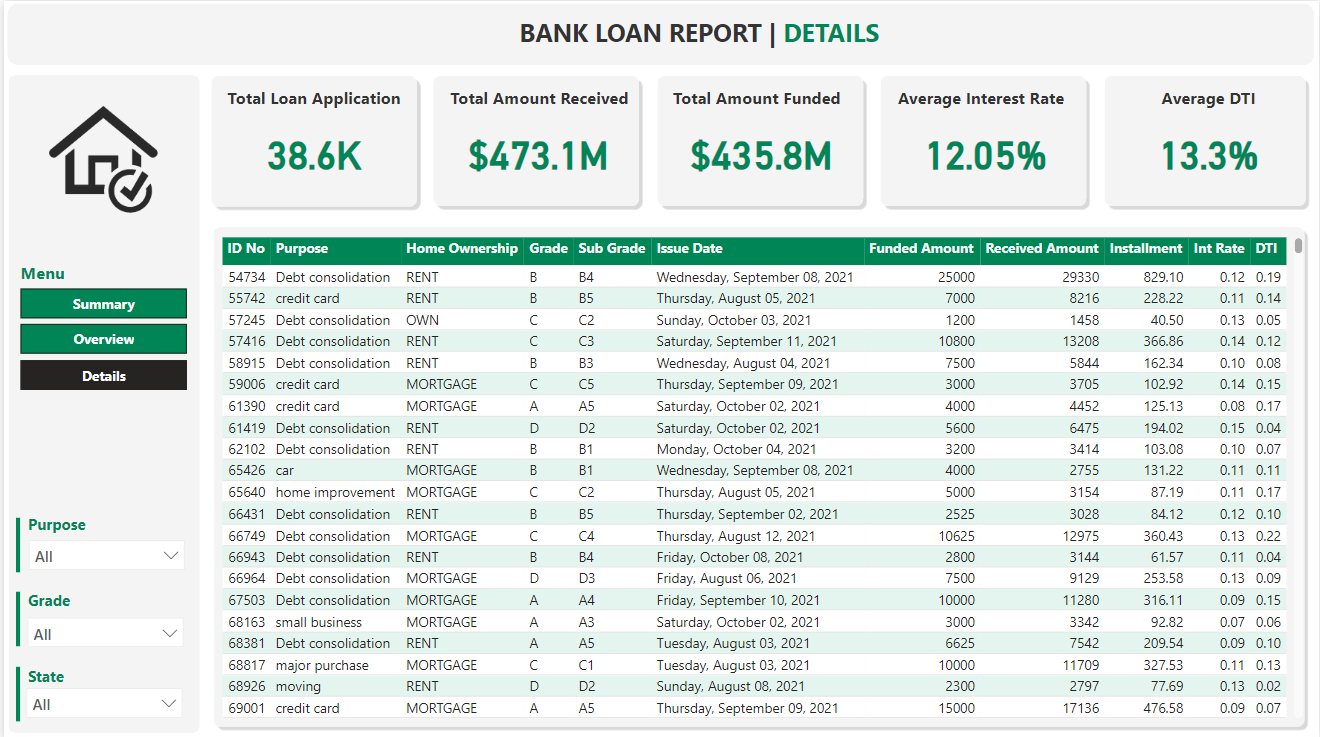

Layout of this report page (visuals, bound fields, positions):
{"tool":"powerbi","page":{"name":"Details","canvas":[1280,720],"ordinal":2},"visuals":[{"type":"shape","box":[3.1,2.1,1272.9,60.4],"z":0},{"type":"shape","box":[4,71.9,186.3,640.9],"z":1000},{"type":"textbox","box":[365.6,8.3,622.9,53.1],"z":2000},{"type":"shape","box":[196.9,67.7,210.4,137.5],"z":3000},{"type":"shape","box":[413.4,68,210.5,137],"z":4000},{"type":"shape","box":[631.1,68,210.5,137],"z":5000},{"type":"shape","box":[848.7,68,210.5,137],"z":6000},{"type":"shape","box":[1066.3,68,206,137],"z":7000},{"type":"card","fields":{"Values":["BankLoan.total loan application"]},"box":[221.7,109.8,160,73.9],"z":8000},{"type":"textbox","box":[198.9,77.9,206.3,40],"z":9000},{"type":"textbox","box":[417.9,77.9,206.3,40],"z":10000},{"type":"textbox","box":[1069.5,77.9,206.3,40],"z":11000},{"type":"textbox","box":[630.5,77.9,206.3,40],"z":12000},{"type":"textbox","box":[848.4,77.9,206.3,40],"z":13000},{"type":"card","fields":{"Values":["BankLoan.Total Amount Recevied"]},"box":[439.4,109.8,160,73.9],"z":14000},{"type":"card","fields":{"Values":["BankLoan.Total Amount Funded"]},"box":[657.1,109.8,160,73.9],"z":15000},{"type":"card","fields":{"Values":["BankLoan.Average int rate"]},"box":[874.8,109.8,160,73.9],"z":16000},{"type":"card","fields":{"Values":["BankLoan.Average DTI"]},"box":[1092.5,109.8,160,73.9],"z":17000},{"type":"slicer","fields":{"Values":["BankLoan.address_state"]},"box":[11.5,659.4,171.9,53.1],"z":18000},{"type":"slicer","fields":{"Values":["BankLoan.grade"]},"box":[12.5,590.6,171.9,50],"z":19000},{"type":"slicer","fields":{"Values":["BankLoan.purpose"]},"box":[13.5,514.6,171.9,52.1],"z":20000},{"type":"textbox","box":[18.8,494.8,111.5,40.6],"z":21000},{"type":"textbox","box":[18.8,568.8,103.1,40.6],"z":22000},{"type":"textbox","box":[18.8,641.7,131.2,40.6],"z":23000},{"type":"shape","box":[4.5,503.1,18.8,53.1],"z":24000},{"type":"shape","box":[4.5,575.5,18.8,53.1],"z":25000},{"type":"shape","box":[4.5,647.9,18.8,53.1],"z":26000},{"type":"image","box":[33,91.2,126.4,127.5],"z":31000},{"type":"shape","box":[198.9,215.4,1072.5,496.7],"z":32000},{"type":"tableEx","fields":{"Values":["BankLoan.id","BankLoan.purpose","BankLoan.home_ownership","BankLoan.grade","BankLoan.sub_grade","BankLoan.issue_date","BankLoan.loan_amount","BankLoan.total_payment","BankLoan.installment","BankLoan.int_rate","BankLoan.dti"]},"box":[206.5,224.8,1064.1,478.9],"z":36000},{"type":"pageNavigator","title":"Menu","box":[15.6,254.2,162.5,125],"z":36001}]}

Visuals, with their boxes in screenshot pixels (x1, y1, x2, y2), scaled from the page's 1280x720 canvas onto the 1320x737 screenshot:
shape: [left=3, top=2, right=1316, bottom=64]
shape: [left=4, top=74, right=196, bottom=730]
textbox: [left=377, top=8, right=1019, bottom=63]
shape: [left=203, top=69, right=420, bottom=210]
shape: [left=426, top=70, right=643, bottom=210]
shape: [left=651, top=70, right=868, bottom=210]
shape: [left=875, top=70, right=1092, bottom=210]
shape: [left=1100, top=70, right=1312, bottom=210]
card - BankLoan.total loan application: [left=229, top=112, right=394, bottom=188]
textbox: [left=205, top=80, right=418, bottom=121]
textbox: [left=431, top=80, right=644, bottom=121]
textbox: [left=1103, top=80, right=1316, bottom=121]
textbox: [left=650, top=80, right=863, bottom=121]
textbox: [left=875, top=80, right=1088, bottom=121]
card - BankLoan.Total Amount Recevied: [left=453, top=112, right=618, bottom=188]
card - BankLoan.Total Amount Funded: [left=678, top=112, right=843, bottom=188]
card - BankLoan.Average int rate: [left=902, top=112, right=1067, bottom=188]
card - BankLoan.Average DTI: [left=1127, top=112, right=1292, bottom=188]
slicer - BankLoan.address_state: [left=12, top=675, right=189, bottom=729]
slicer - BankLoan.grade: [left=13, top=605, right=190, bottom=656]
slicer - BankLoan.purpose: [left=14, top=527, right=191, bottom=580]
textbox: [left=19, top=506, right=134, bottom=548]
textbox: [left=19, top=582, right=126, bottom=624]
textbox: [left=19, top=657, right=155, bottom=698]
shape: [left=5, top=515, right=24, bottom=569]
shape: [left=5, top=589, right=24, bottom=643]
shape: [left=5, top=663, right=24, bottom=718]
image: [left=34, top=93, right=164, bottom=224]
shape: [left=205, top=220, right=1311, bottom=729]
tableEx - BankLoan.id x BankLoan.purpose: [left=213, top=230, right=1310, bottom=720]
"Menu" pageNavigator: [left=16, top=260, right=184, bottom=388]
